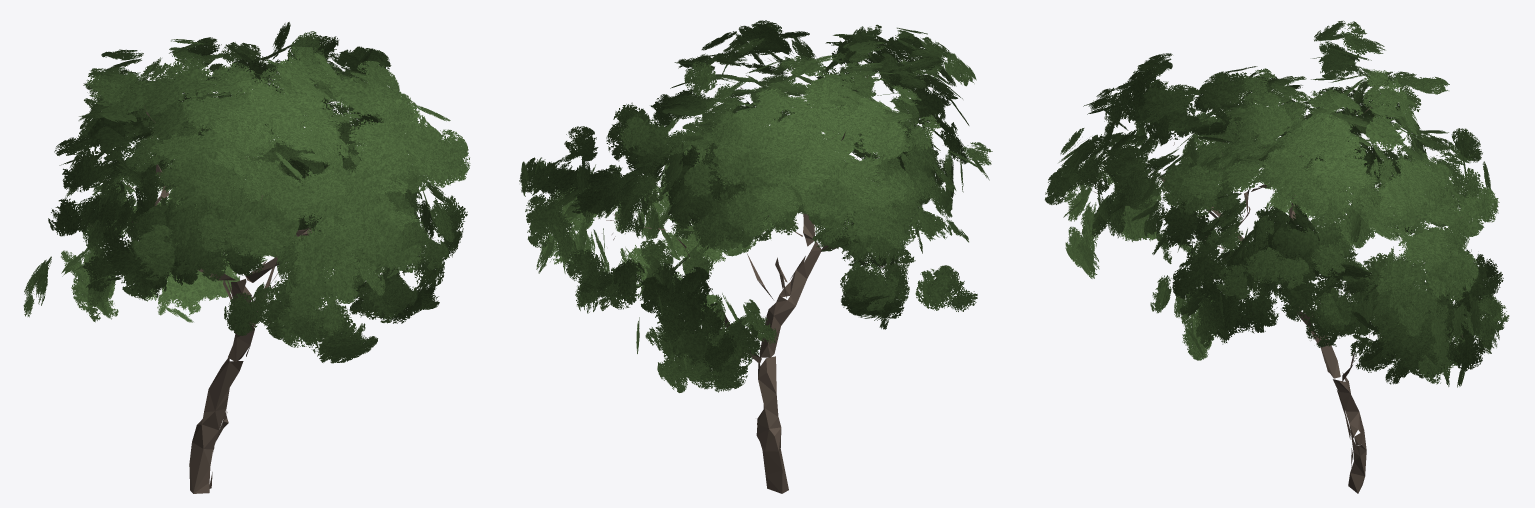
The model's file is tree-lite.glb.
3 views of the same model, side by side, from view 1: azimuth 30°, elevation 25°; view 2: azimuth 150°, elevation 25°; view 3: azimuth 270°, elevation 25° (orthographic). The views are drawn at different scales.
Visible parts, largest first — view 1: tree_foliage, tree_bark; view 2: tree_foliage, tree_bark; view 3: tree_foliage, tree_bark.
Part boxes in pixels (box(x1,y1,x2,y2)): tree_foliage: box(23, 22, 470, 363); tree_bark: box(92, 106, 434, 493); tree_foliage: box(519, 20, 992, 392); tree_bark: box(602, 56, 946, 493); tree_foliage: box(1045, 20, 1509, 387); tree_bark: box(1093, 86, 1462, 493).
Size of the model in its own units: 1.08 by 1.05 by 1.07.
2 materials, 1 textured.
